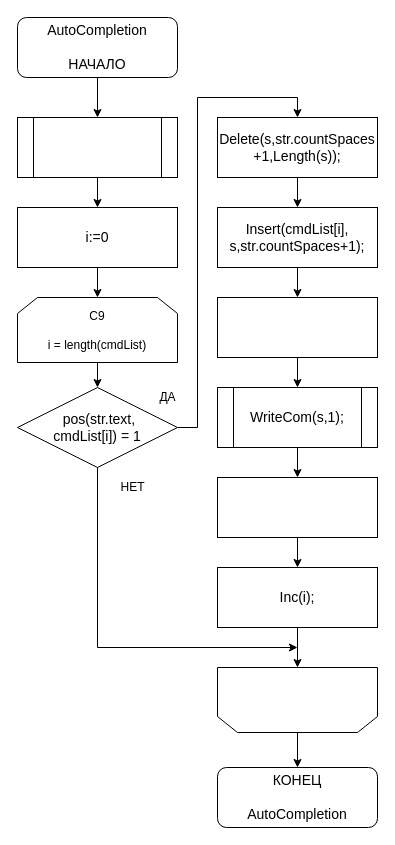
Some shapes in this 395 by 845 pixel diagram are drawn without their labels. The box of each missing label's shape, as (x1, y1, x2, y2) in pixels:
break;: (216, 476, 378, 538)
C9: (216, 666, 378, 732)
str:= RemoveSpaces(s);: (16, 116, 178, 178)
x:=length(s): (216, 296, 378, 358)
